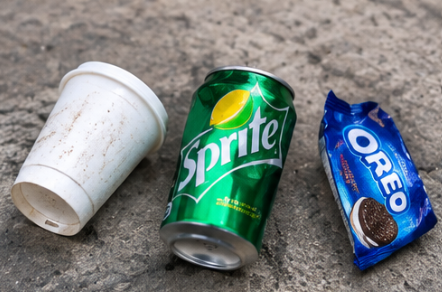metal: (158, 64, 297, 272)
paper: (10, 60, 171, 238)
plastic: (316, 86, 435, 270)
